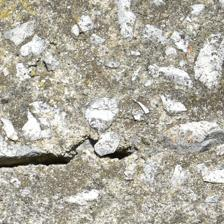Crack: (2, 61, 140, 114)
